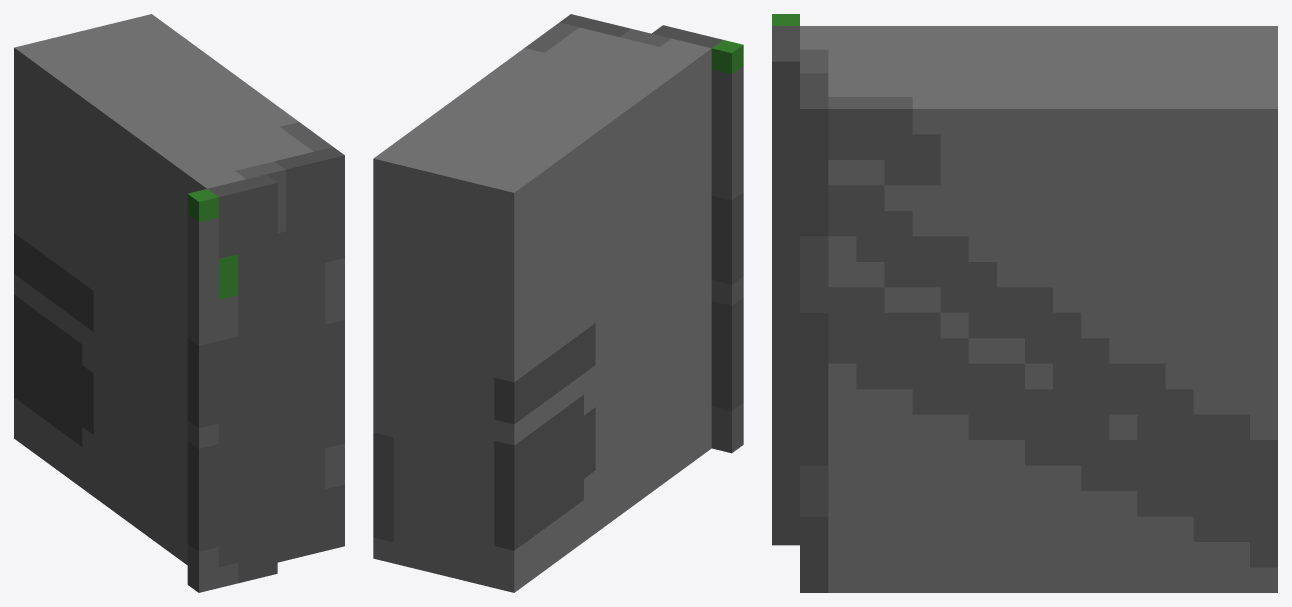
Rendered from beach5.obj.
The picture shows the model from 3 angles, left to right: view 1: azimuth 30°, elevation 25°; view 2: azimuth 150°, elevation 25°; view 3: azimuth 270°, elevation 25°; orthographic projection. The views are drawn at different scales.
Bounding box in the file's own units: 0.8 × 1.9 × 1.8.
Materials: 1 (1 with a texture image).
